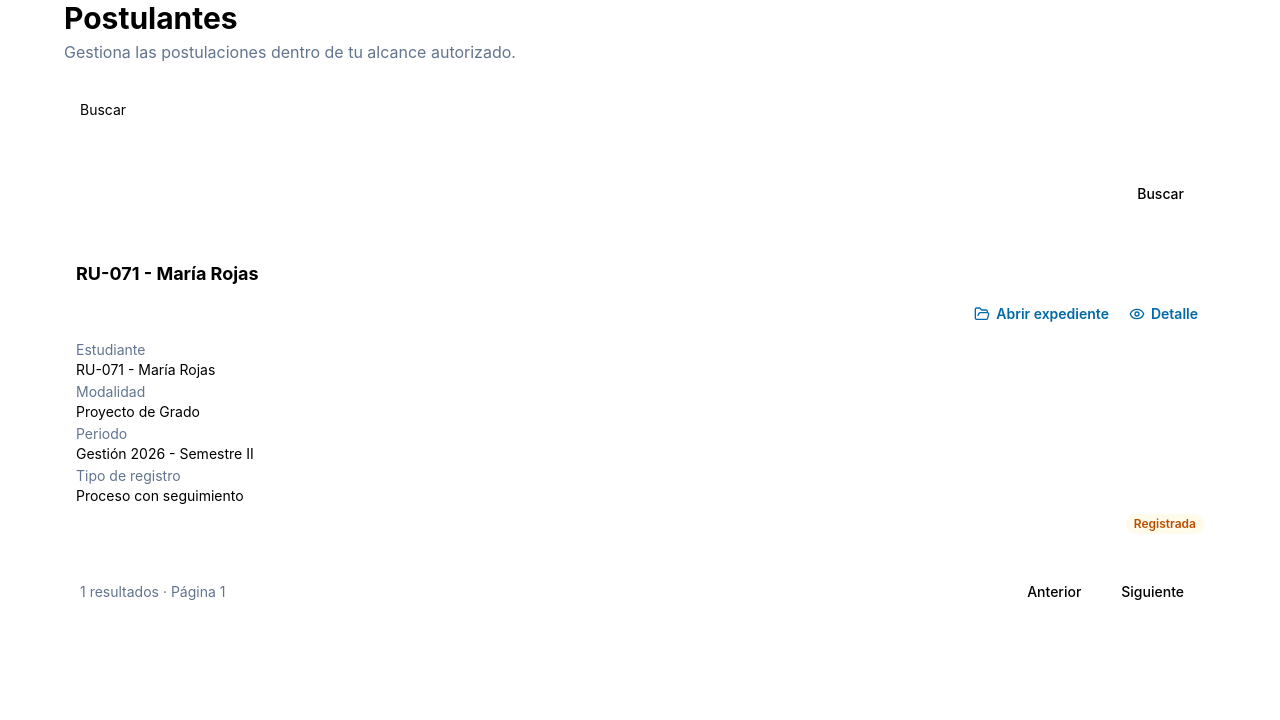
it: PostulantesPage US-007 › omite el resultado final cuando la nota canónica es null
The image size is (1280, 720).
Click the button "Detalle" at (1164, 314), box x1=1123 y1=296 x2=1204 y2=332
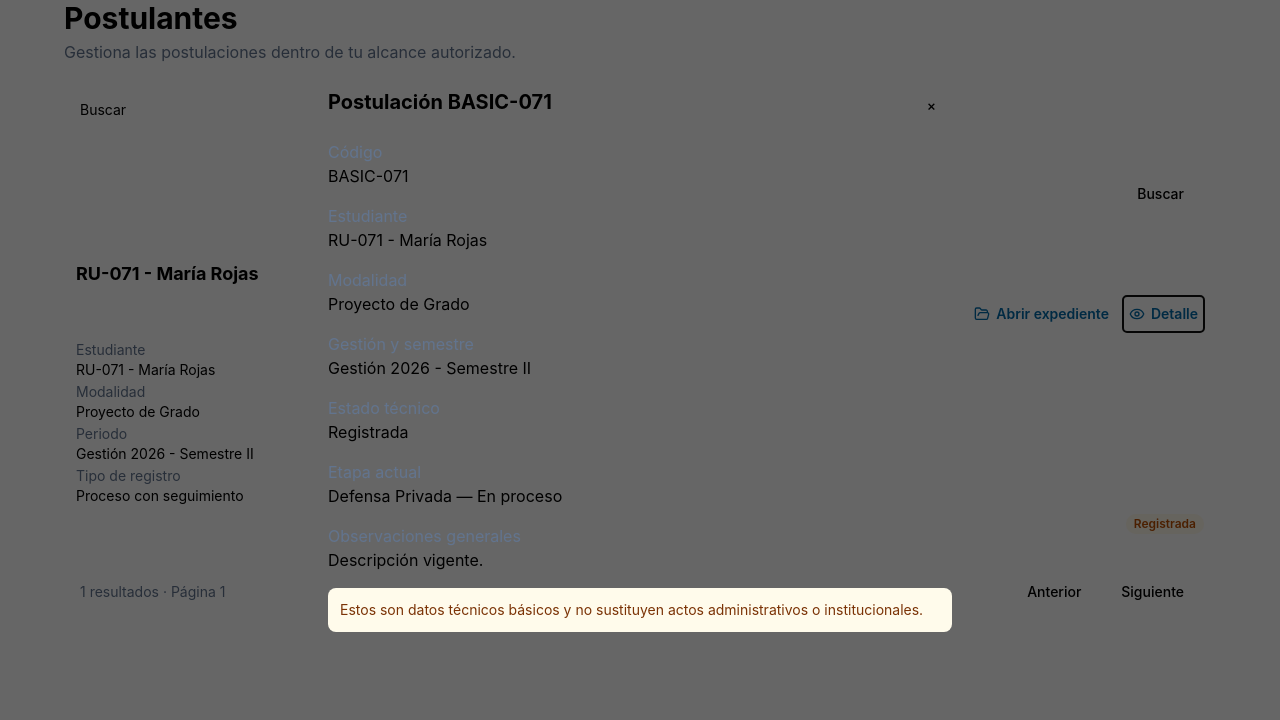
Now the text "Defensa Privada — En proceso" is shown, box x1=328 y1=486 x2=562 y2=506
Now the text "Registrada" is shown, box x1=328 y1=422 x2=408 y2=442
